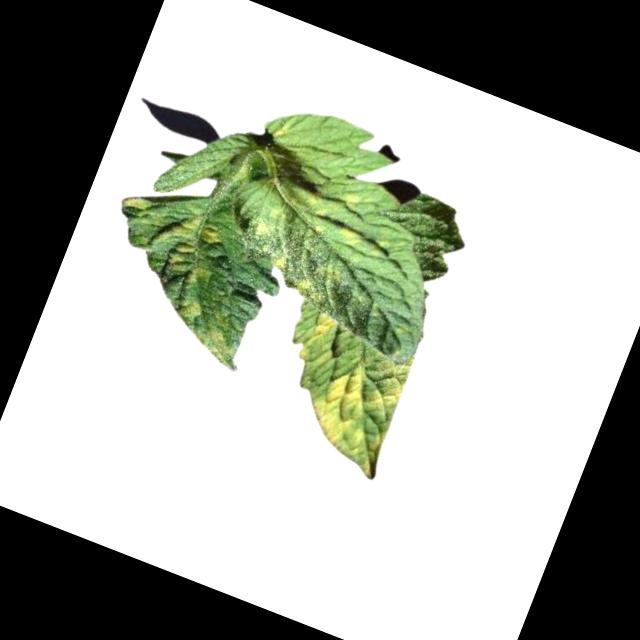Leaf_Mold: (290, 332, 419, 482), (142, 206, 226, 292), (185, 305, 254, 372), (285, 253, 346, 312), (291, 310, 335, 370), (330, 183, 368, 219), (115, 191, 155, 224), (172, 293, 203, 324), (333, 221, 362, 249)
